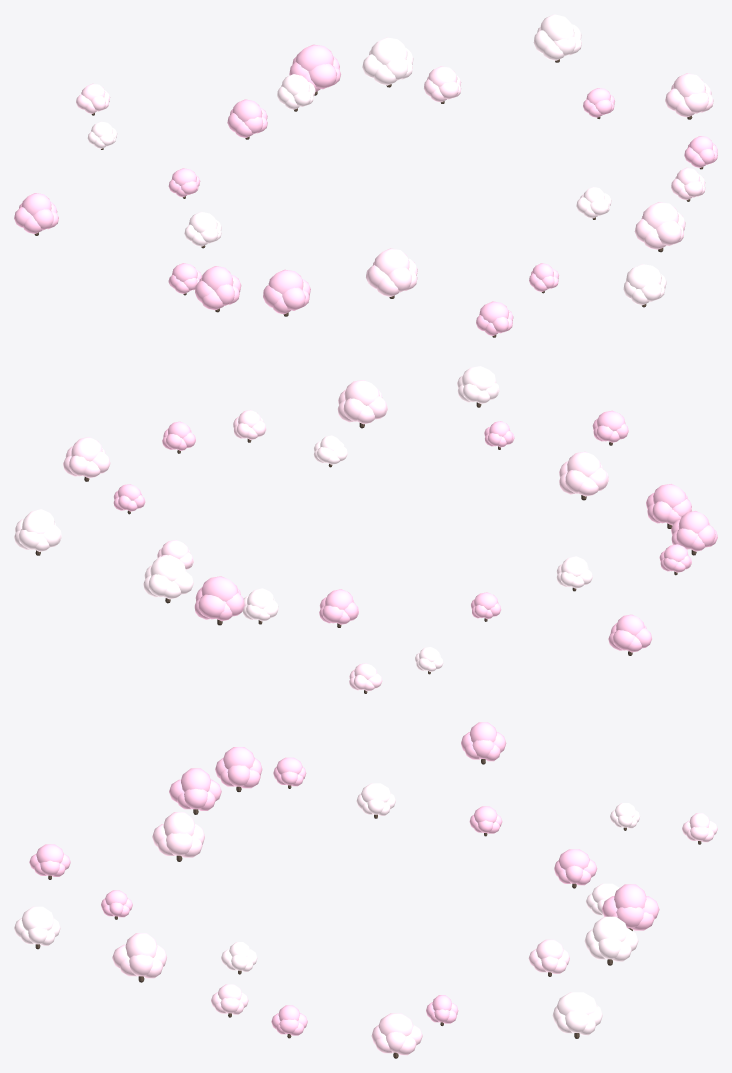
File: fartrees.glb
3 views of the same model, one above another, from view 1: azimuth 30°, elevation 25°; view 2: azimuth 150°, elevation 25°; view 3: azimuth 270°, elevation 25° (orthographic). The views are drawn at different scales.
Parts seen in each view (by area): view 1: FarTree5_c0, FarTree4_c0, FarTree2_c0, FarTree20_c0, FarTree16_c0, FarTree19_c0, FarTree15_c0, FarTree0_c0, FarTree5_c4, FarTree14_c0; view 2: FarTree5_c0, FarTree4_c0, FarTree20_c0, FarTree19_c0, FarTree16_c0, FarTree2_c0, FarTree15_c0, FarTree0_c0, FarTree5_c3; view 3: FarTree2_c0, FarTree4_c0, FarTree5_c0, FarTree20_c0, FarTree19_c0, FarTree0_c0, FarTree16_c0, FarTree15_c0, FarTree14_c0.
Part boxes in pixels (x1,y1,x2,y2): FarTree5_c0: (295,44,333,71); FarTree4_c0: (370,37,407,64); FarTree2_c0: (540,14,574,40); FarTree20_c0: (642,202,678,228); FarTree16_c0: (374,248,409,274); FarTree19_c0: (625,264,661,289); FarTree15_c0: (268,269,303,294); FarTree0_c0: (673,73,705,97); FarTree5_c4: (308,63,336,89); FarTree14_c0: (201,266,233,290); FarTree5_c0: (201,576,238,601); FarTree4_c0: (150,555,185,581); FarTree20_c0: (344,380,379,405); FarTree19_c0: (461,366,496,390); FarTree16_c0: (567,451,601,477); FarTree2_c0: (22,509,54,533); FarTree15_c0: (653,484,686,507); FarTree0_c0: (71,437,102,461); FarTree5_c3: (198,594,225,619); FarTree2_c0: (556,992,597,1015); FarTree4_c0: (592,916,627,941); FarTree5_c0: (614,884,646,908); FarTree20_c0: (125,933,157,957); FarTree19_c0: (22,906,53,930); FarTree0_c0: (378,1013,413,1036); FarTree16_c0: (163,812,195,835); FarTree15_c0: (181,768,210,791); FarTree14_c0: (223,747,254,768).
Bounding box in the file's own units: 151 × 11 × 143.
